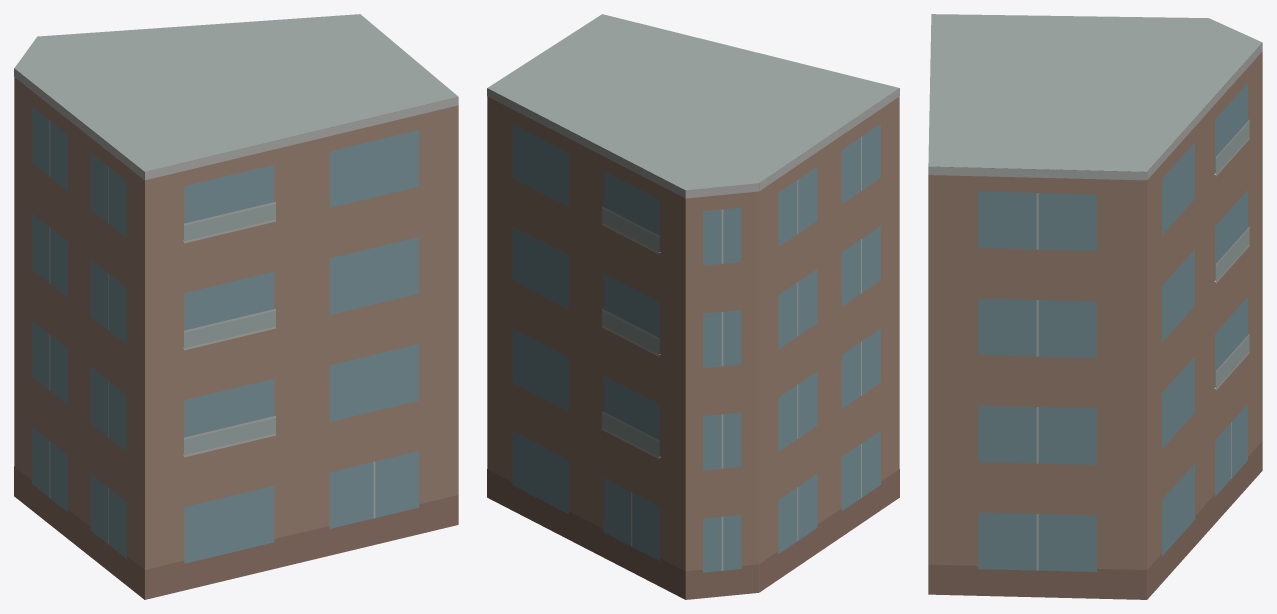
The model's file is survey-upis-32819714.glb.
3 views of the same model, side by side, from view 1: azimuth 30°, elevation 25°; view 2: azimuth 150°, elevation 25°; view 3: azimuth 270°, elevation 25° (orthographic). The views are drawn at different scales.
Parts seen in each view (by area): view 1: survey-upis-32819714.tmp; view 2: survey-upis-32819714.tmp; view 3: survey-upis-32819714.tmp.
Boxes of the visible parts, bbox=[...] form: survey-upis-32819714.tmp: bbox=[14, 14, 458, 599]; survey-upis-32819714.tmp: bbox=[487, 14, 899, 599]; survey-upis-32819714.tmp: bbox=[928, 14, 1262, 599].
Bounding box in the file's own units: 9.66 × 12.2 × 8.64.
